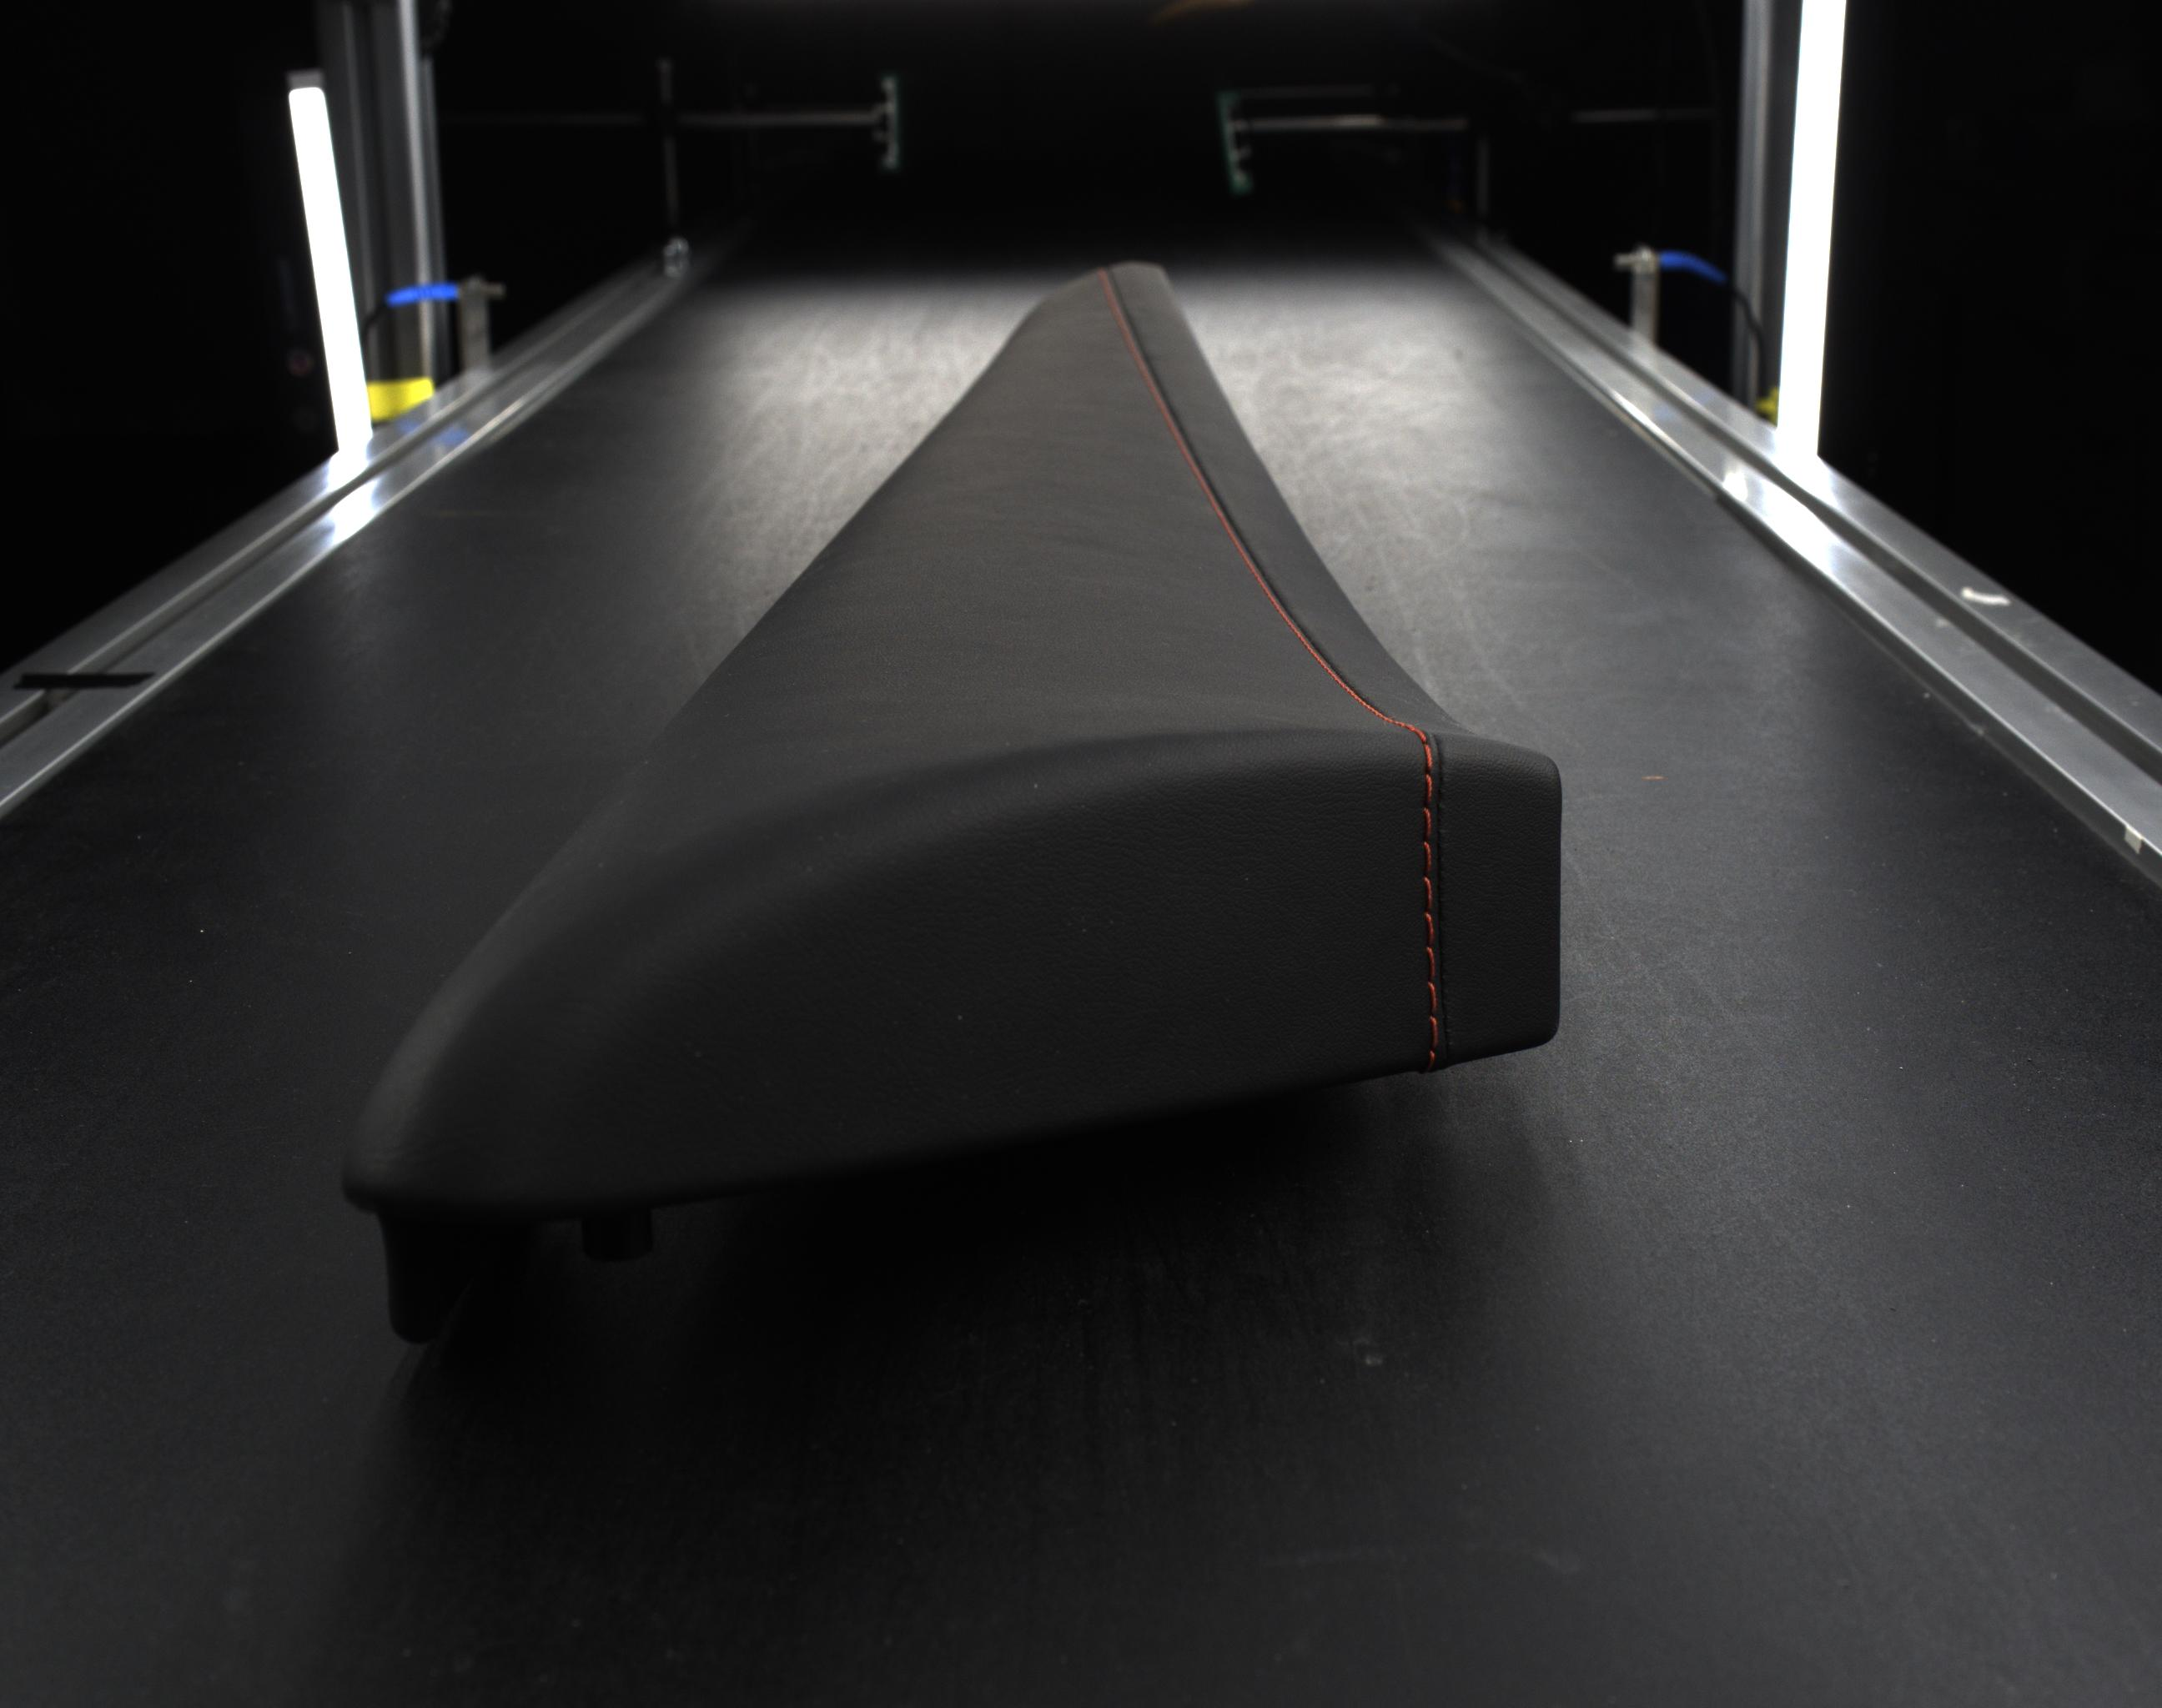vline: (1423, 915, 1435, 943), (1421, 806, 1432, 837), (1425, 948, 1435, 978), (1425, 774, 1434, 806), (1423, 843, 1432, 874), (1425, 878, 1434, 909), (1428, 983, 1437, 1013), (1430, 1016, 1439, 1046), (1423, 746, 1434, 771)
